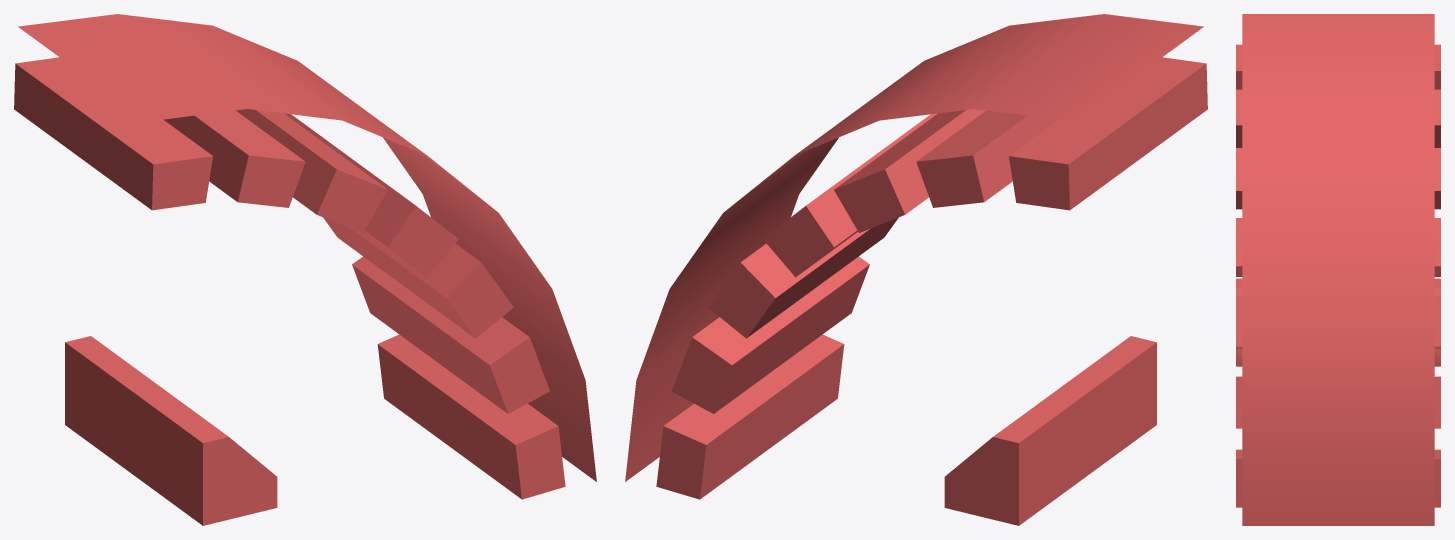
Rendered from Curve2Color_New.fbx.
3 renders of one model, left to right at view 1: azimuth 30°, elevation 25°; view 2: azimuth 150°, elevation 25°; view 3: azimuth 270°, elevation 25°, orthographic. The views are drawn at different scales.
Visible parts, largest first — view 1: polySurface485; view 2: polySurface485; view 3: polySurface485.
Boxes of the visible parts, x1,y1,x2,y2 form: polySurface485: (14,14,596,525); polySurface485: (625,14,1207,525); polySurface485: (1236,14,1440,525).
Size of the model in its own units: 1.92 by 1.92 by 1.02.
